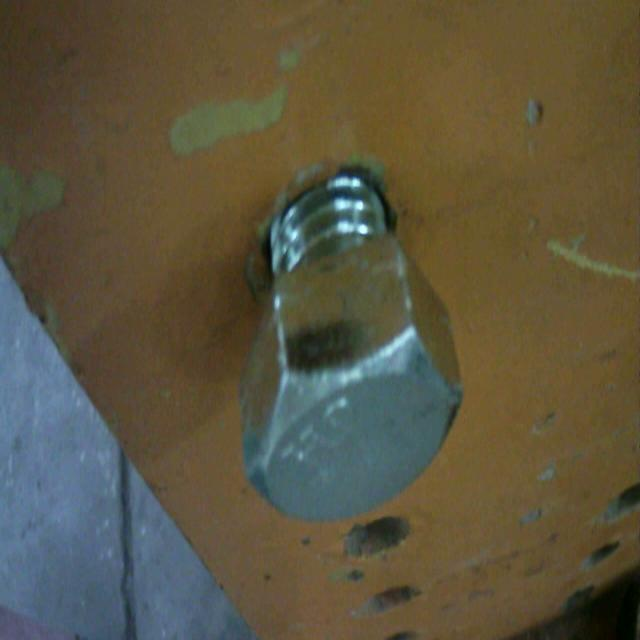Loose bolt: (239, 171, 465, 526)
Missing bolt: (342, 517, 413, 567), (361, 584, 423, 616), (583, 535, 621, 582), (604, 480, 640, 526), (561, 587, 599, 617)
Regular bolt: (239, 173, 469, 519)
